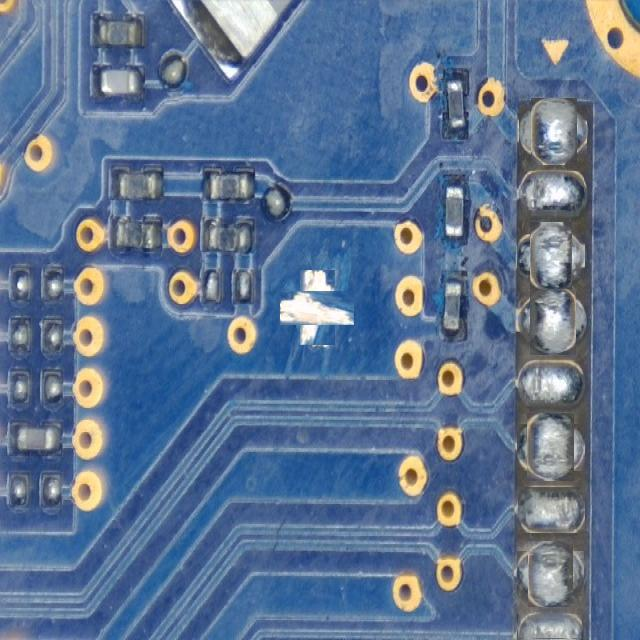Dry_joint: (529, 286, 576, 354), (530, 98, 577, 165), (519, 361, 586, 408), (517, 487, 585, 533), (527, 413, 573, 480), (529, 540, 573, 607), (530, 221, 572, 289), (519, 171, 584, 213), (517, 615, 582, 637)
